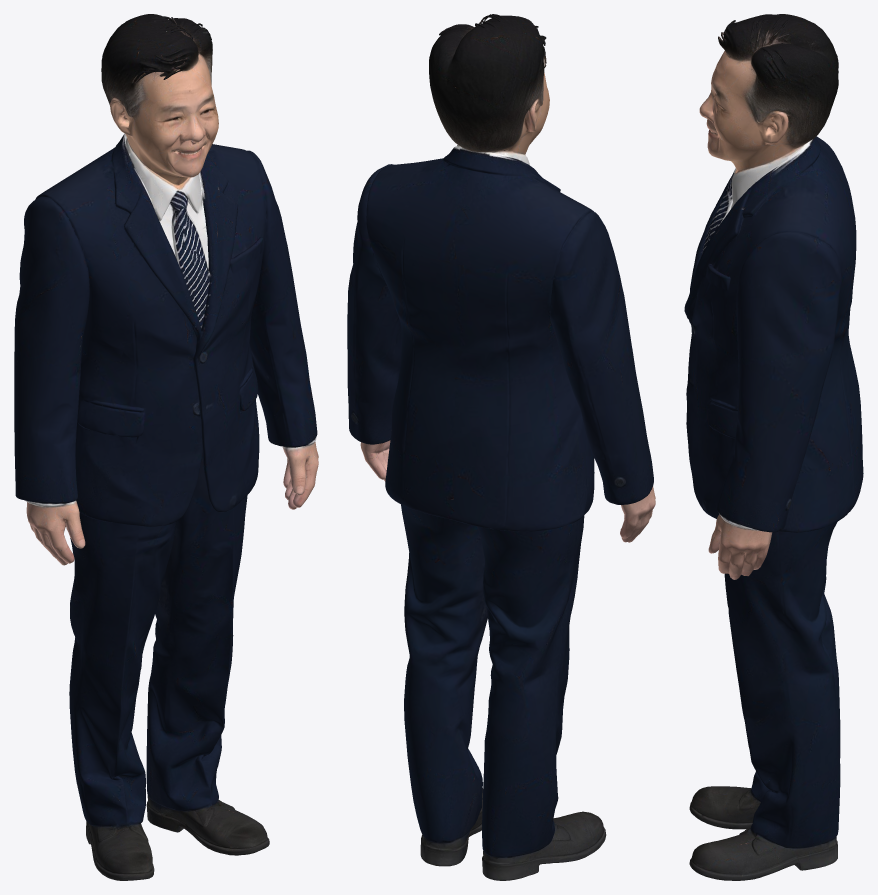
The model's file is chen3d.glb.
3 views of the same model, side by side, from view 1: azimuth 30°, elevation 25°; view 2: azimuth 150°, elevation 25°; view 3: azimuth 270°, elevation 25° (orthographic).
Size of the model in its own units: 0.7118 by 1.9 by 0.373.
Materials: 1 (1 with a texture image).
